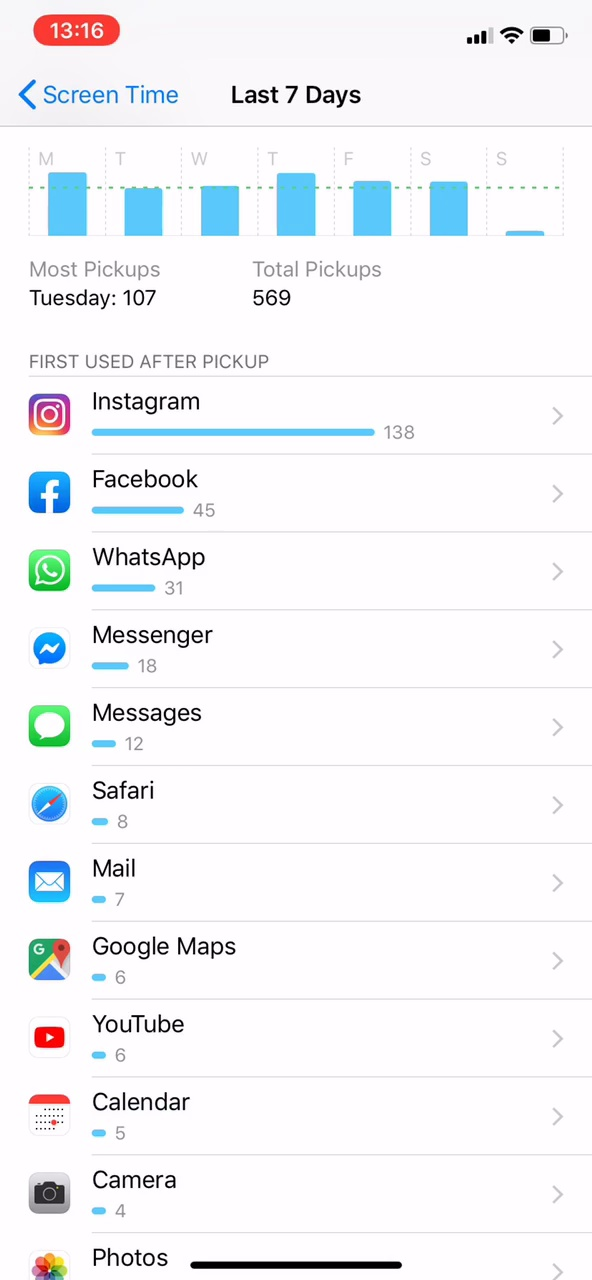pick_app: (25, 378, 434, 450), (14, 930, 272, 988), (23, 619, 261, 680), (18, 467, 253, 525), (20, 1163, 229, 1227), (18, 699, 239, 758), (26, 542, 243, 600), (17, 1083, 223, 1144), (23, 1010, 207, 1067), (20, 850, 182, 911), (28, 774, 198, 830)
pick_over: (25, 250, 437, 330)
week: (215, 73, 380, 114)
